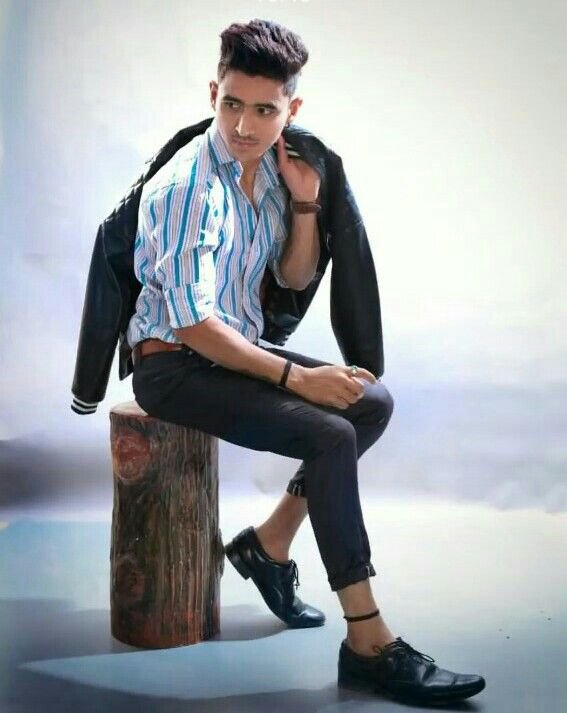noMask: (195, 12, 335, 167)
